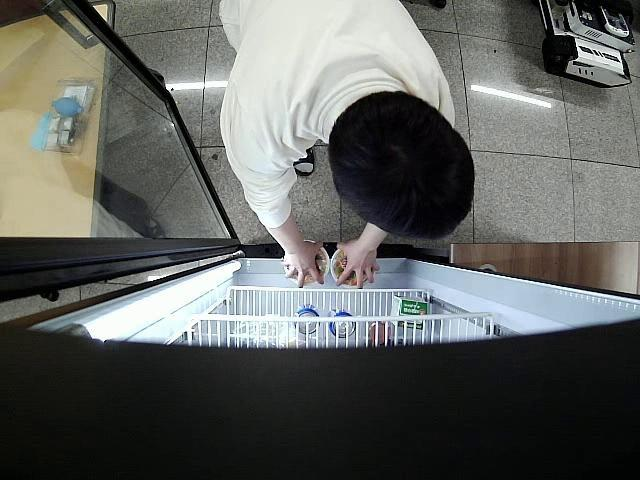09_yukGaeJang: (285, 242, 329, 285), (331, 247, 375, 289)
